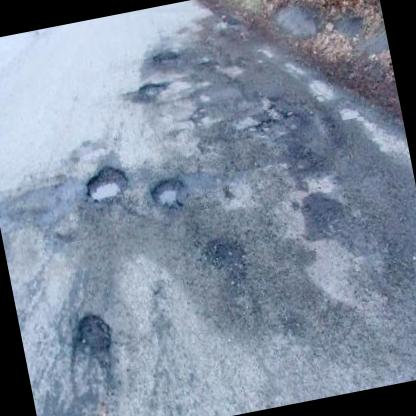pothole: (298, 187, 346, 241), (80, 158, 132, 203), (202, 231, 250, 273), (73, 308, 116, 354), (146, 169, 188, 213), (287, 139, 327, 176), (137, 76, 172, 98), (152, 46, 182, 67), (266, 101, 285, 120), (256, 116, 276, 134)
